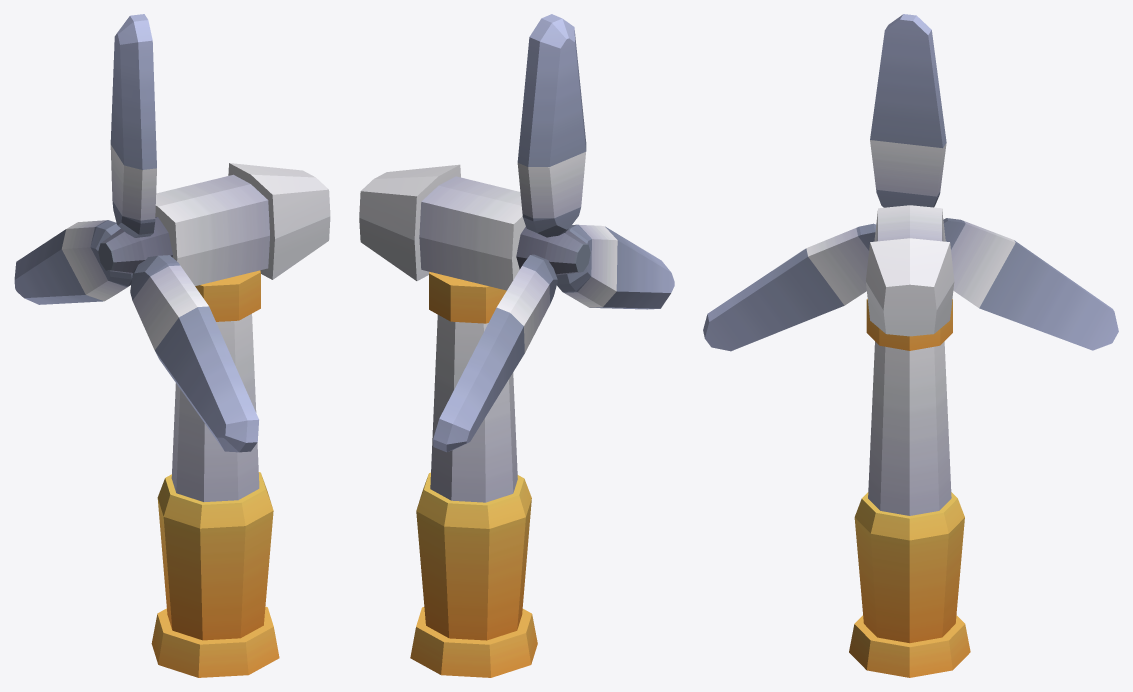
The model's file is industrial__windmill-low.glb.
3 views of the same model, side by side, from view 1: azimuth 30°, elevation 25°; view 2: azimuth 150°, elevation 25°; view 3: azimuth 270°, elevation 25° (orthographic). The views are drawn at different scales.
Visible parts, largest first — view 1: windmill-low, blades; view 2: windmill-low, blades; view 3: windmill-low, blades.
Boxes of the visible parts, x1=… form: windmill-low: x1=98, y1=163, x2=330, y2=677; blades: x1=14, y1=14, x2=258, y2=452; windmill-low: x1=359, y1=164, x2=590, y2=677; blades: x1=433, y1=14, x2=674, y2=452; windmill-low: x1=849, y1=205, x2=970, y2=677; blades: x1=703, y1=14, x2=1118, y2=351.
Size of the model in its own units: 0.6047 by 1.79 by 1.13.
1 material, 1 textured.
